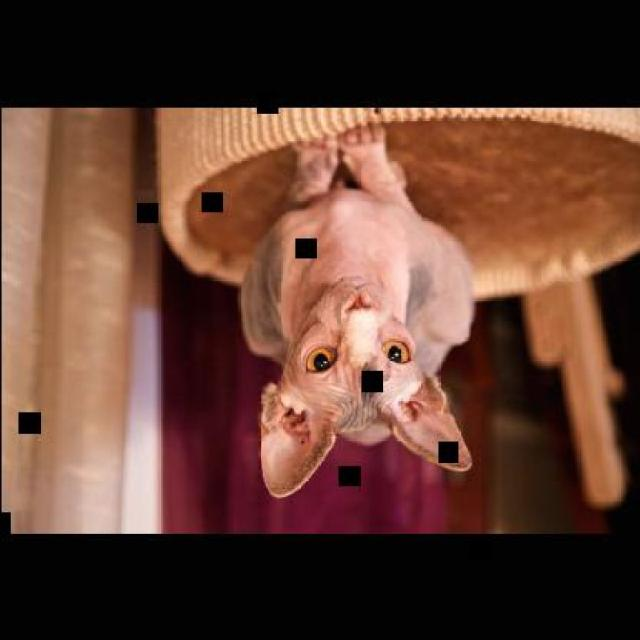unauthorized: (235, 120, 477, 498)
